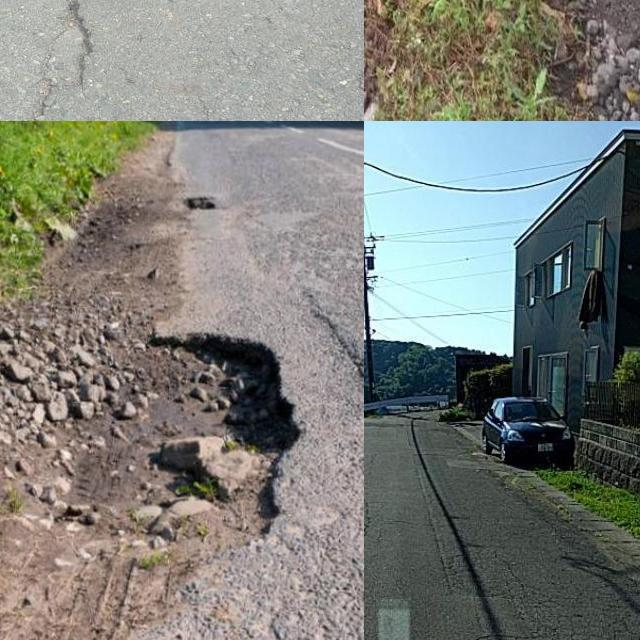Memanjang: (0, 0, 100, 121)
Pinggir: (70, 319, 315, 640)
